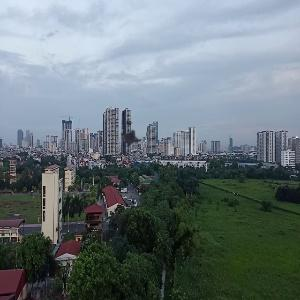drone: (112, 115, 161, 164)
